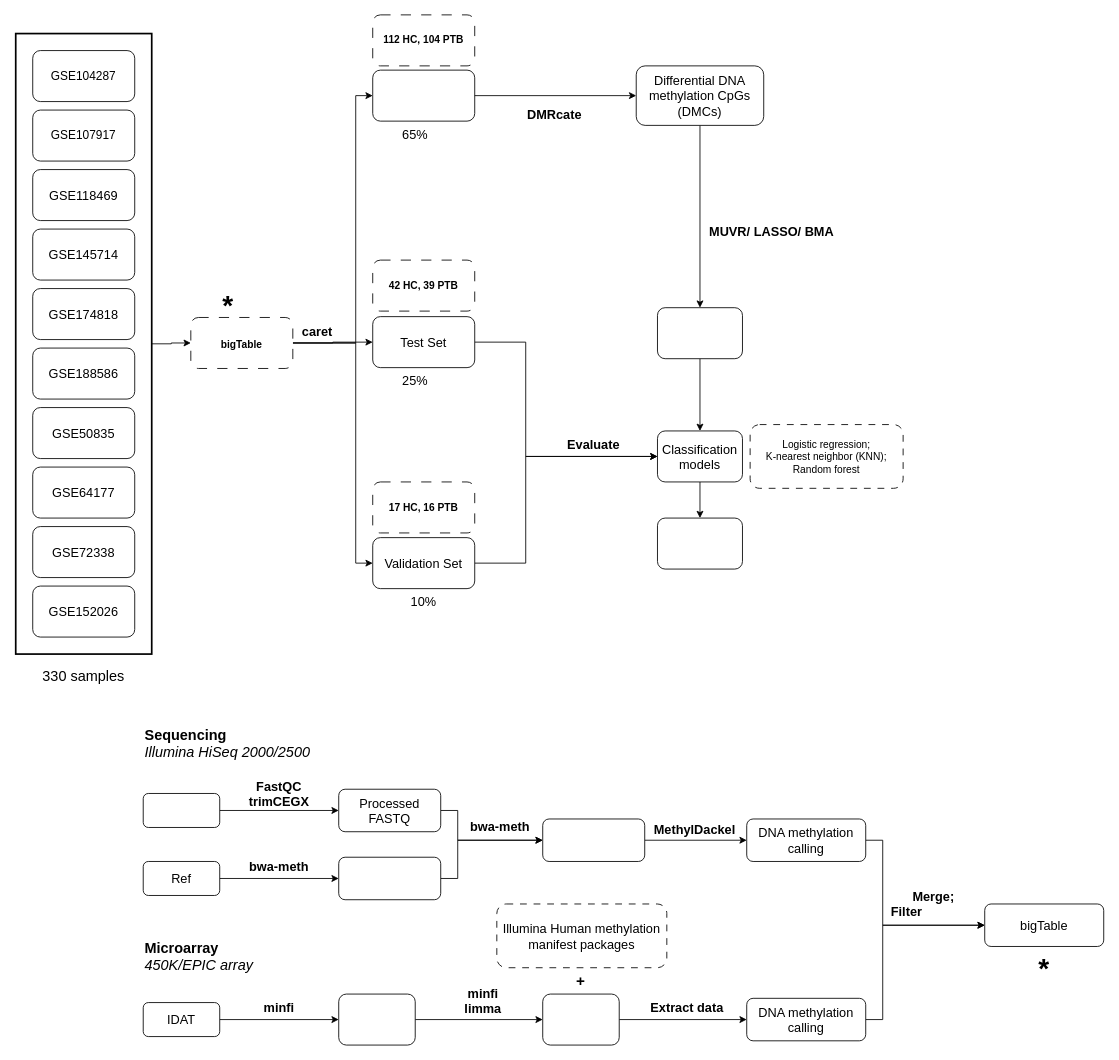
Image size: 1119x1060. Some labels were removed from this diagram. Each missing label, with the centre of its shape:
"BAM" belongs at (x=593, y=839).
"Discovery Set" belongs at (x=423, y=95).
"FASTQ" belongs at (x=181, y=810).
"HC/PTB" belongs at (x=699, y=543).
"Important features" belongs at (x=699, y=333).
"Normalized values" belongs at (x=580, y=1019).
"Processed raw value" belongs at (x=376, y=1019).
"Ref indexed" belongs at (x=389, y=878).
